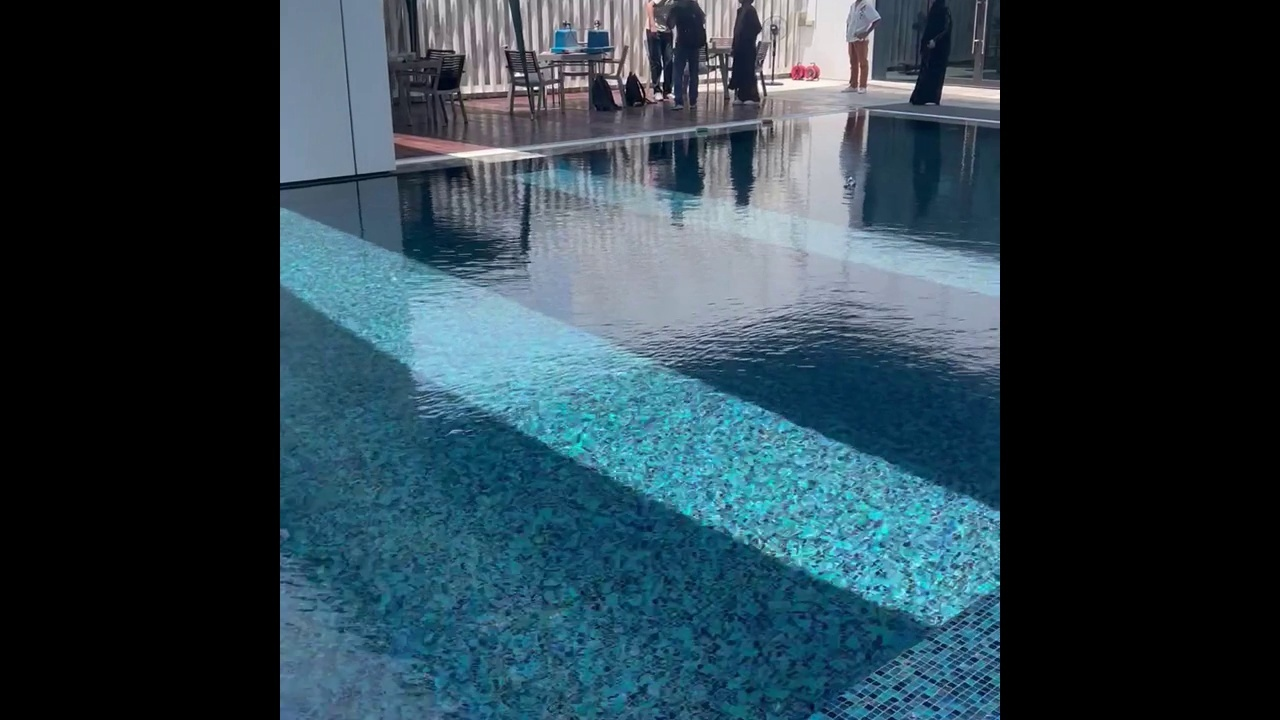debris: (693, 124, 710, 139), (841, 173, 857, 188), (760, 115, 774, 128)
